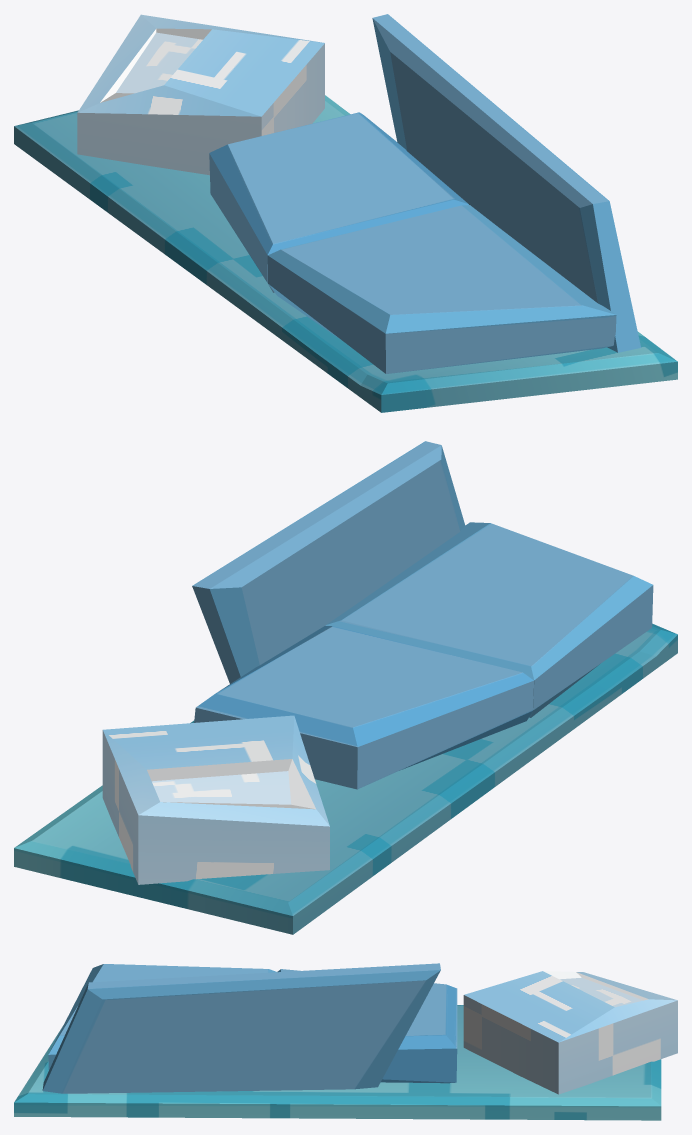
The model's file is sideCouch.FBX.
3 renders of one model, top to bottom at view 1: azimuth 30°, elevation 25°; view 2: azimuth 150°, elevation 25°; view 3: azimuth 270°, elevation 25°, orthographic. The views are drawn at different scales.
Visible parts, largest first — view 1: couch_left; view 2: couch_left; view 3: couch_left.
Boxes of the visible parts, bbox=[...] form: couch_left: bbox=[14, 14, 677, 412]; couch_left: bbox=[14, 441, 677, 934]; couch_left: bbox=[14, 963, 677, 1120].
Bounding box in the file's own units: 109 × 68.44 × 297.
5 materials, 5 textured.
